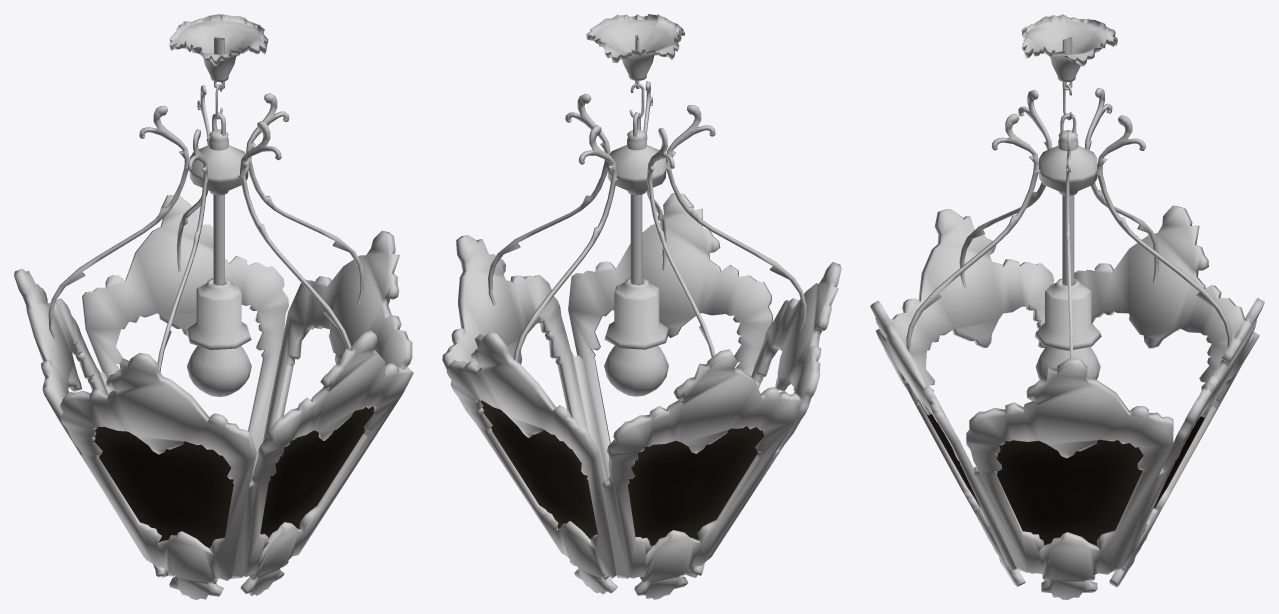
Rendered from lantern_chandelier_01.obj.
3 renders of one model, left to right at view 1: azimuth 30°, elevation 25°; view 2: azimuth 150°, elevation 25°; view 3: azimuth 270°, elevation 25°, orthographic.
Visible parts, largest first — view 1: lantern_chandelier_01_0, lantern_chandelier_01_1, lantern_chandelier_01_2; view 2: lantern_chandelier_01_0, lantern_chandelier_01_1, lantern_chandelier_01_2; view 3: lantern_chandelier_01_0, lantern_chandelier_01_1, lantern_chandelier_01_2.
Part boxes in pixels (x1,y1,x2,y2): lantern_chandelier_01_0: [14, 14, 413, 599]; lantern_chandelier_01_1: [94, 406, 373, 548]; lantern_chandelier_01_2: [187, 346, 251, 396]; lantern_chandelier_01_0: [442, 14, 841, 599]; lantern_chandelier_01_1: [480, 400, 764, 546]; lantern_chandelier_01_2: [604, 345, 668, 396]; lantern_chandelier_01_0: [870, 14, 1264, 599]; lantern_chandelier_01_1: [918, 400, 1211, 545]; lantern_chandelier_01_2: [1035, 347, 1100, 379].
Bounding box in the file's own units: 0.5792 × 0.8776 × 0.5746.
